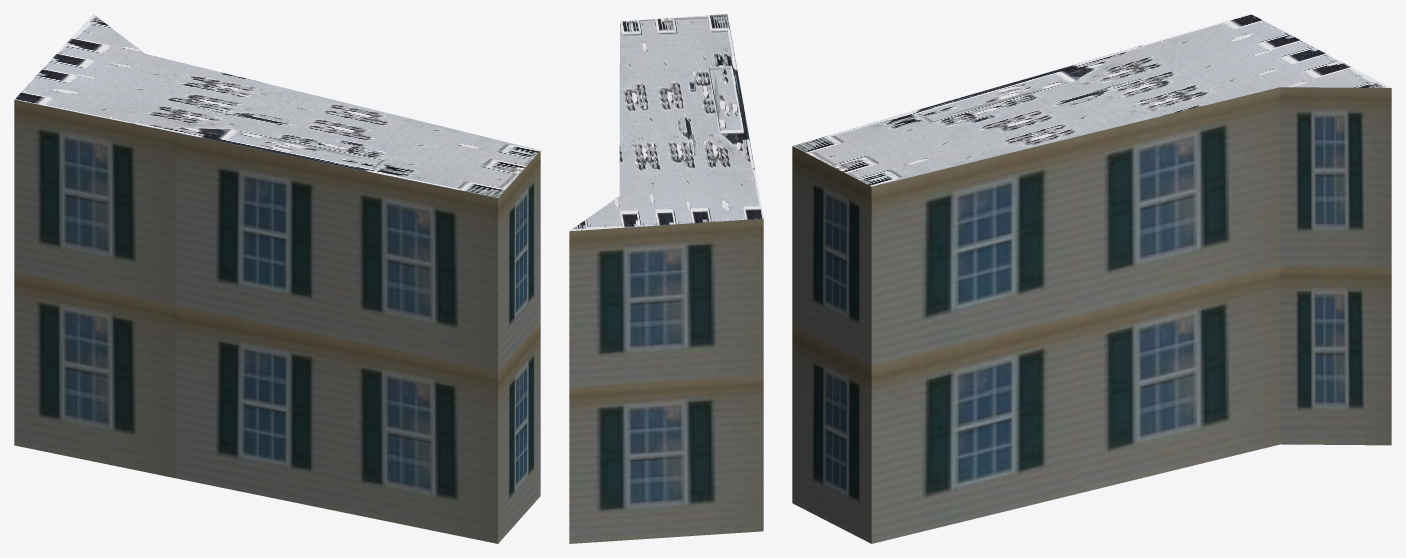
File: ResTex__1575.fbx
The picture shows the model from 3 angles, left to right: view 1: azimuth 30°, elevation 25°; view 2: azimuth 150°, elevation 25°; view 3: azimuth 270°, elevation 25°; orthographic projection. The views are drawn at different scales.
Visible parts, largest first — view 1: CityEngineMaterial_7_m, CityEngineMaterial_4_m; view 2: CityEngineMaterial_7_m, CityEngineMaterial_4_m; view 3: CityEngineMaterial_7_m, CityEngineMaterial_4_m.
Part boxes in pixels (x1=…): CityEngineMaterial_7_m: x1=14, y1=99, x2=540, y2=543; CityEngineMaterial_4_m: x1=15, y1=14, x2=539, y2=197; CityEngineMaterial_7_m: x1=569, y1=218, x2=763, y2=543; CityEngineMaterial_4_m: x1=569, y1=14, x2=763, y2=231; CityEngineMaterial_7_m: x1=792, y1=87, x2=1391, y2=543; CityEngineMaterial_4_m: x1=793, y1=14, x2=1390, y2=186.
Bounding box in the file's own units: 6.22 × 6 × 9.12.
Materials: 2 (2 with a texture image).
